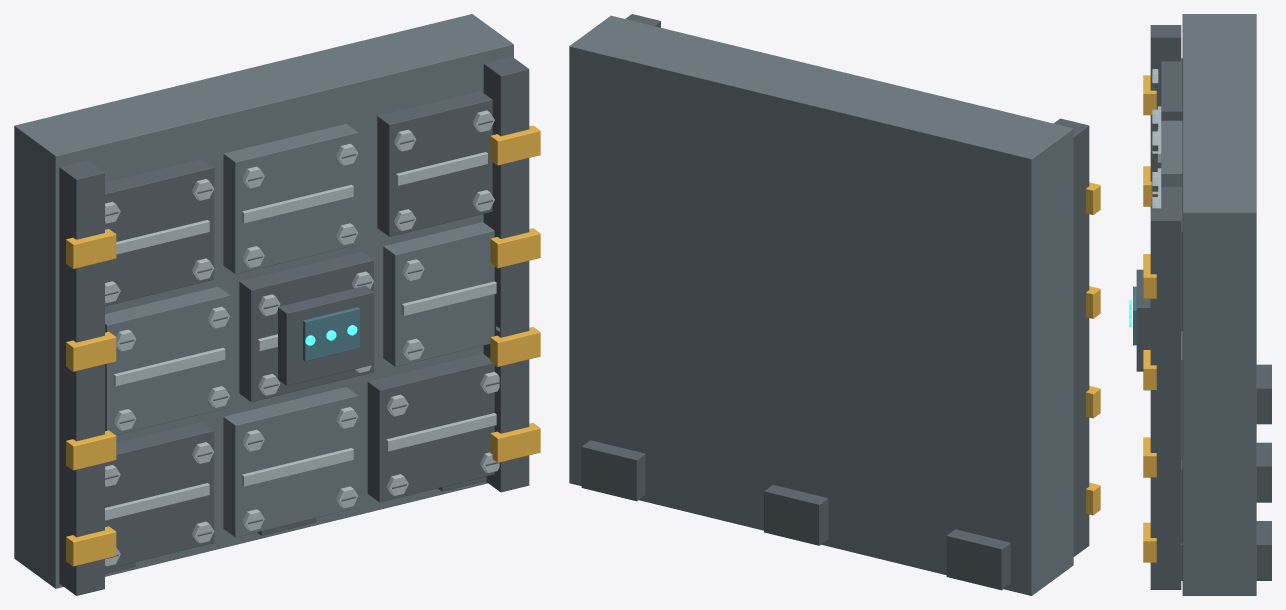
Rendered from 07_Armored_Titanium_Wall.fbx.
3 renders of one model, left to right at view 1: azimuth 30°, elevation 25°; view 2: azimuth 150°, elevation 25°; view 3: azimuth 270°, elevation 25°, orthographic. The views are drawn at different scales.
Parts seen in each view (by area): view 1: 07_Armored_Titanium_Wall; view 2: 07_Armored_Titanium_Wall; view 3: 07_Armored_Titanium_Wall.
Part boxes in pixels (x1=…): 07_Armored_Titanium_Wall: x1=14, y1=14, x2=540, y2=595; 07_Armored_Titanium_Wall: x1=569, y1=14, x2=1100, y2=595; 07_Armored_Titanium_Wall: x1=1129, y1=14, x2=1271, y2=595.
Bounding box in the file's own units: 3.57 × 3.16 × 1.07.
